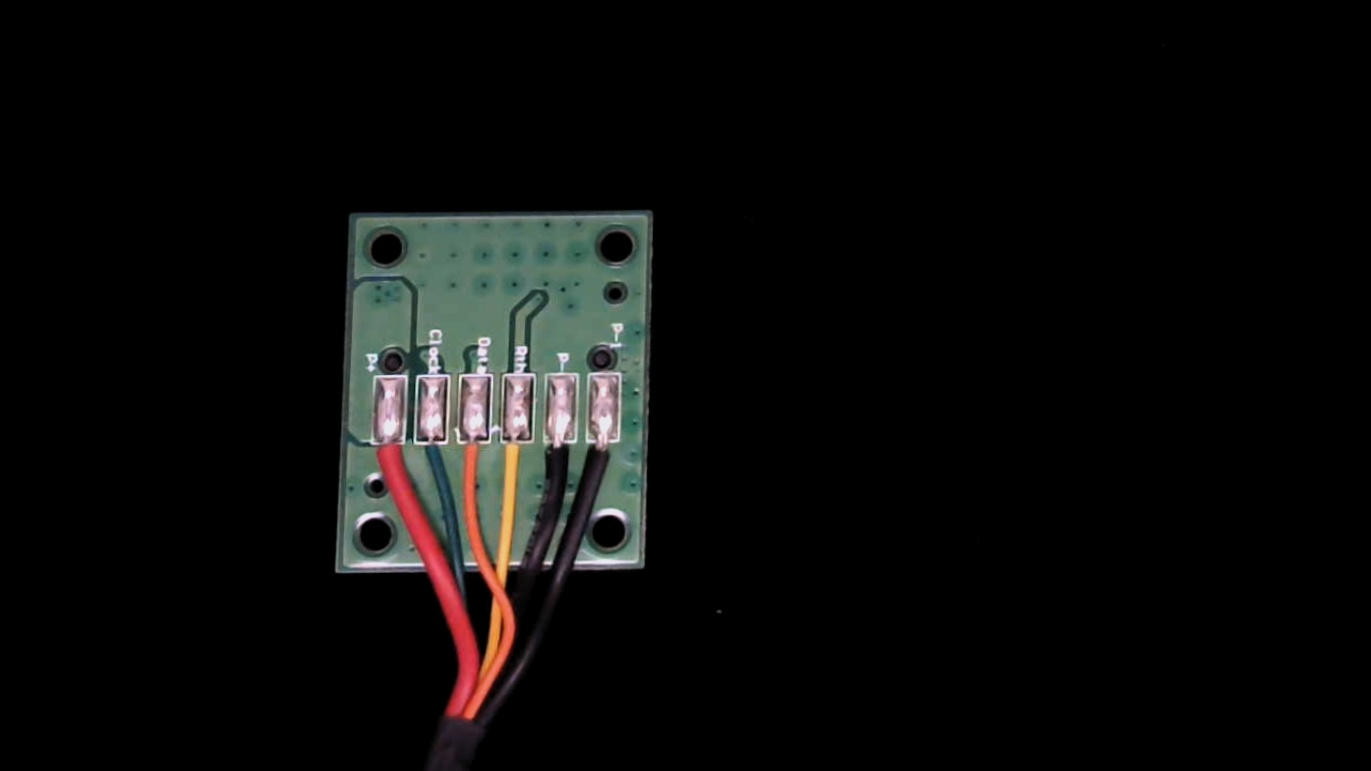Black: (538, 419, 580, 499)
Black1: (582, 420, 621, 493)
Green: (411, 414, 452, 491)
Orange: (454, 416, 493, 495)
Red: (368, 419, 408, 495)
Yellow: (499, 418, 540, 499)
